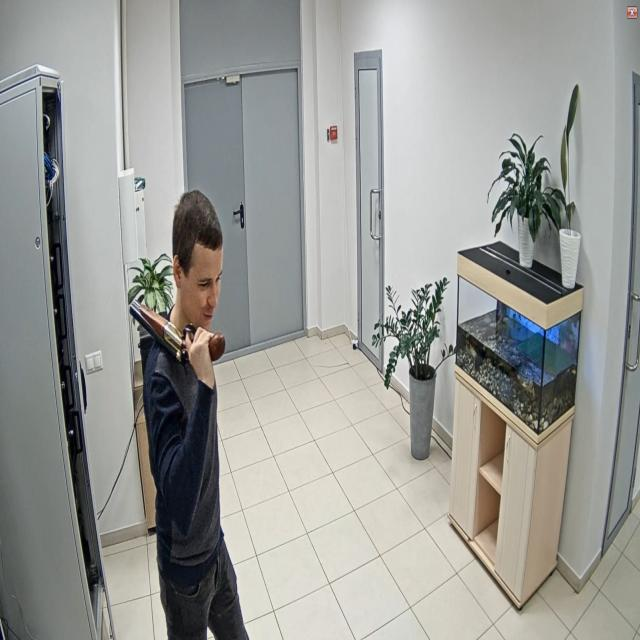-Gun: (129, 295, 225, 370)
